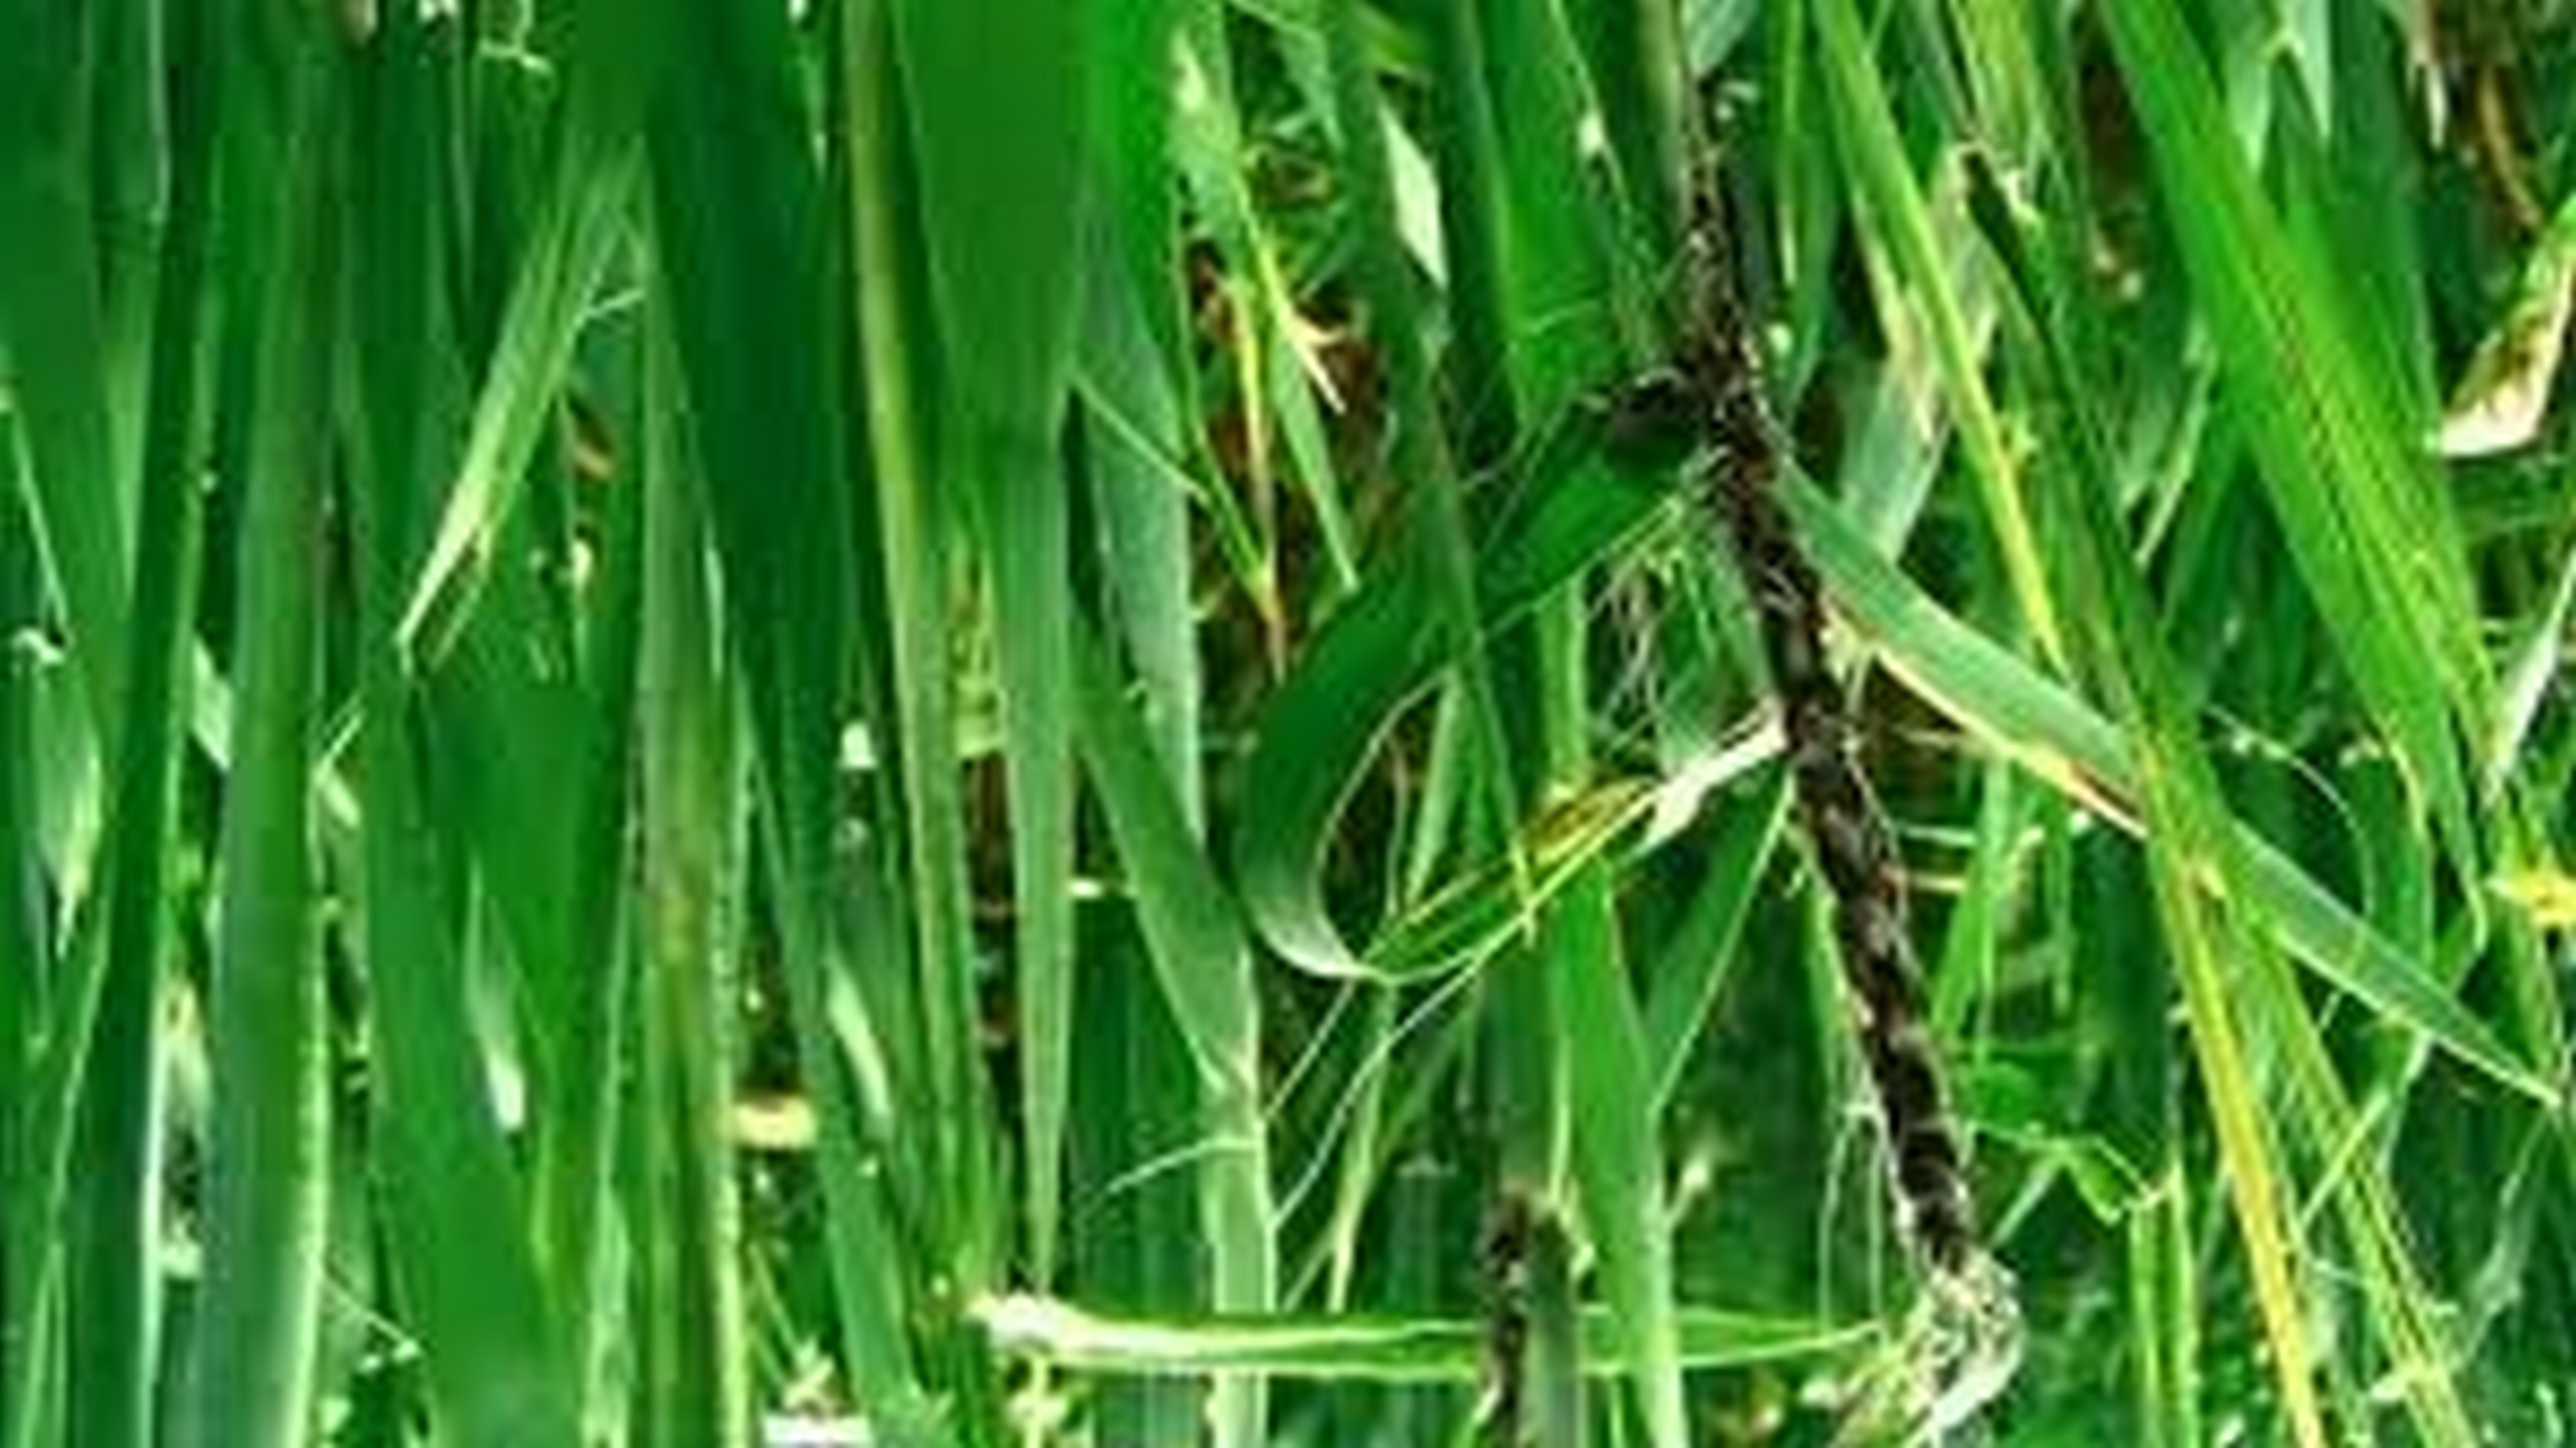Wheat Loose Smut: (1672, 297, 2003, 1275)
